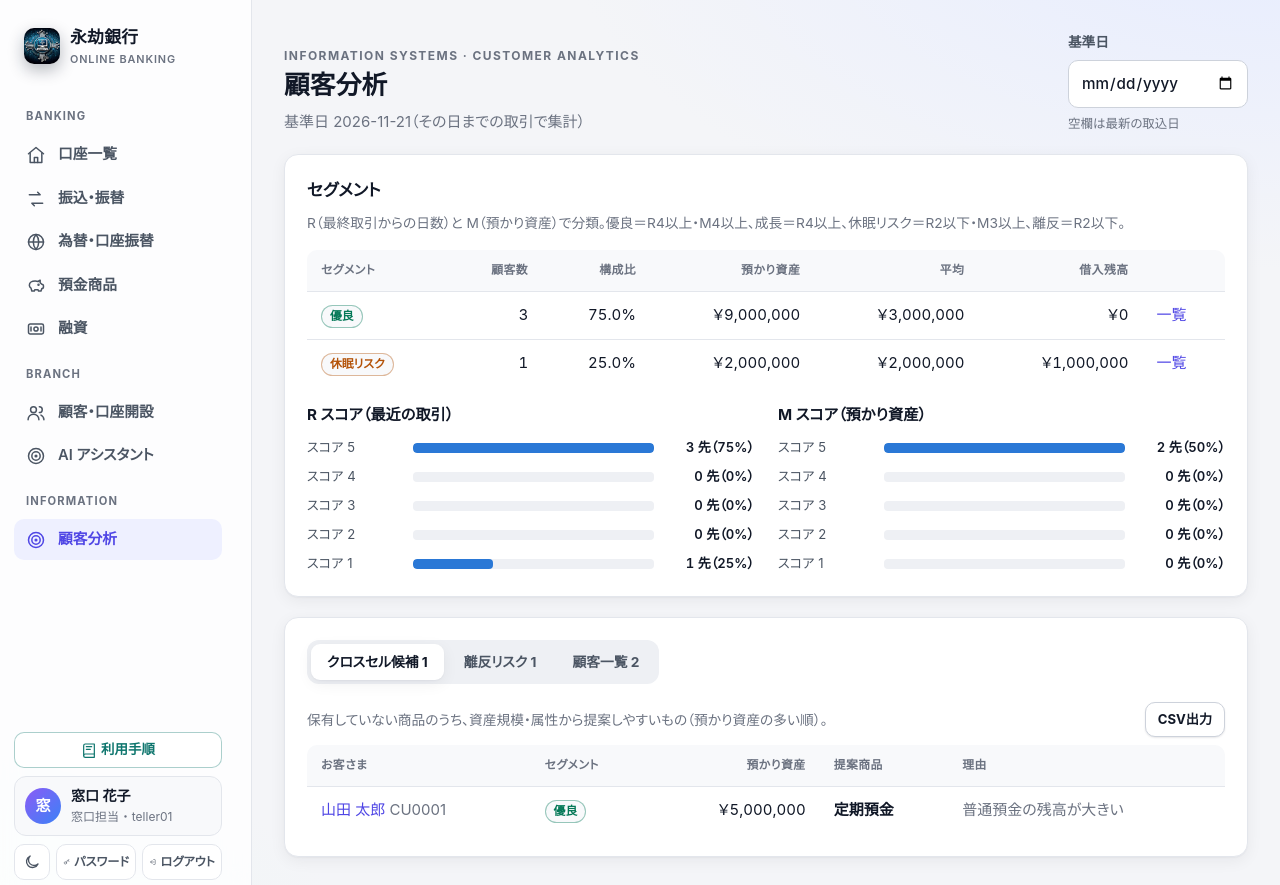
AnalyticsPage › セグメントの「一覧」で顧客一覧を絞り込み、すべてに戻せる
Click the button "一覧" in the row of "25.0%": [1172, 363] box [1156,351,1186,375]
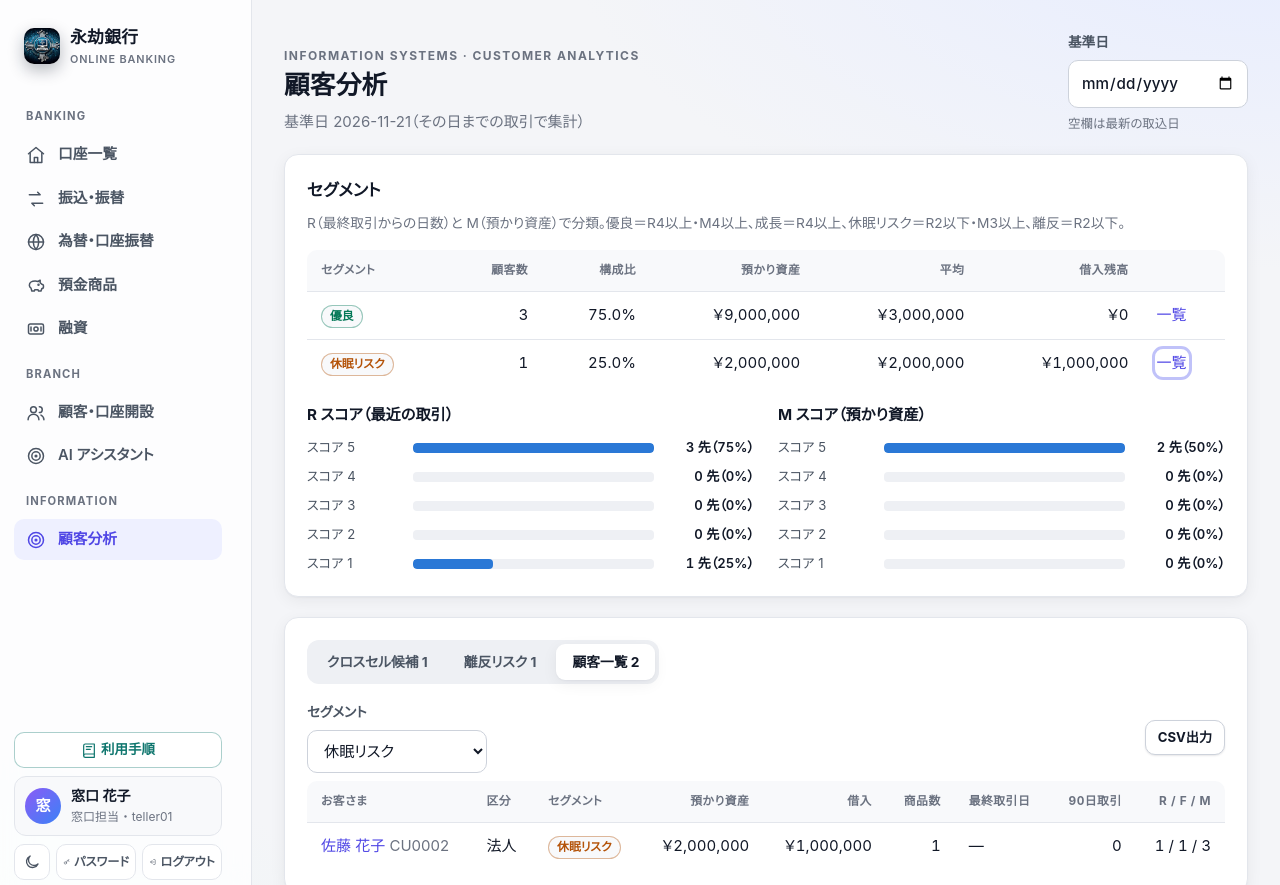
Expected: the text "5 / 4 / 5" is not shown
Result: the dropdown labelled "セグメント" shows "休眠リスク"
Select "すべて" in the dropdown labelled "セグメント": [397, 751] box [307,730,487,773]
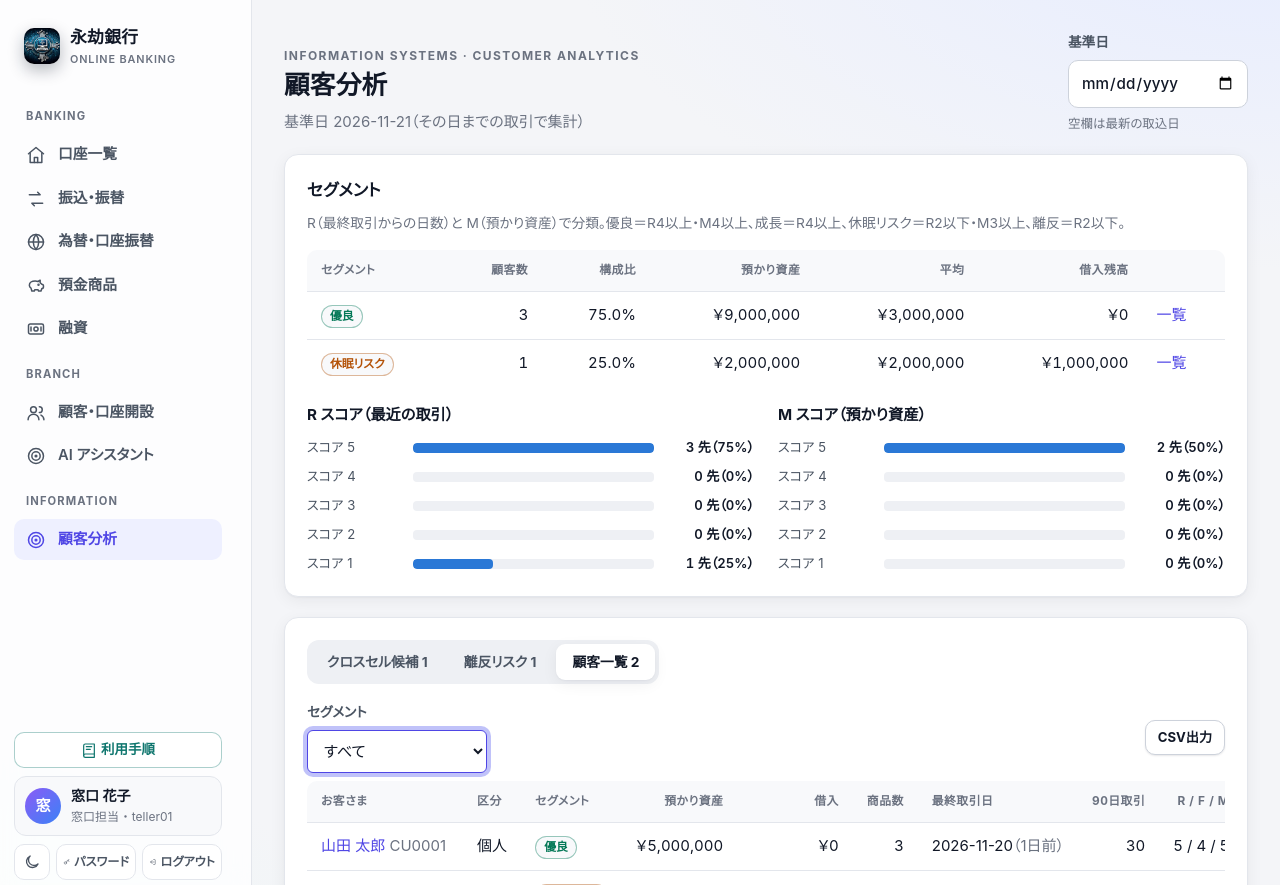
Result: the text "5 / 4 / 5" is shown at [1159,823,1225,871]
